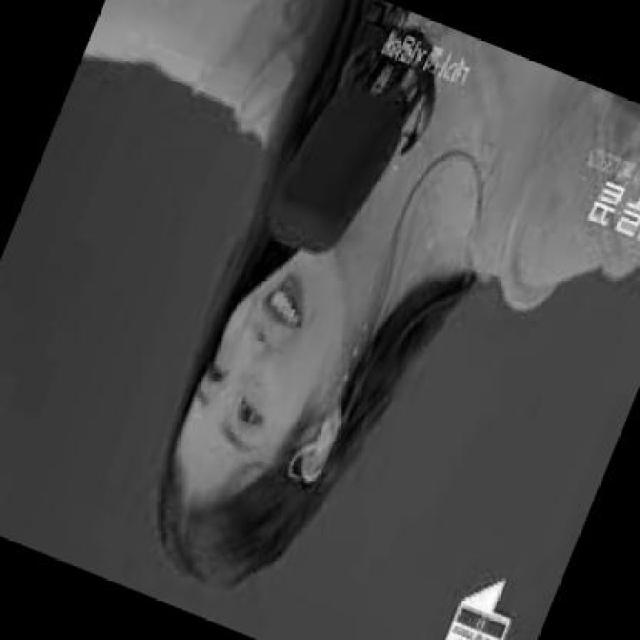earphone: (294, 412, 338, 492)
